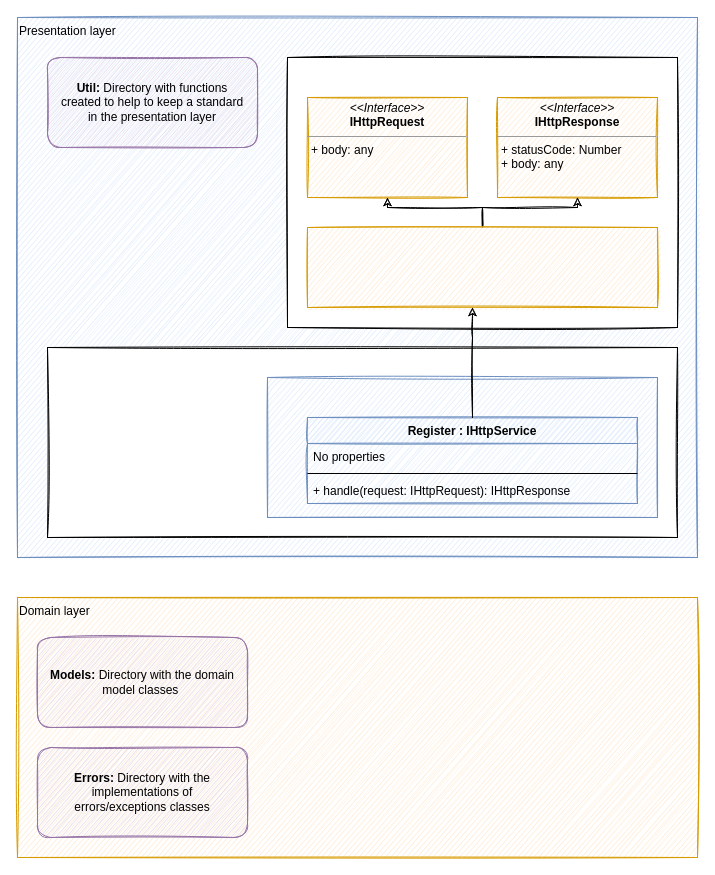
Some shapes in this 715 by 875 pixel diagram are drawn without their labels. The shapes that lost their labels are listed below. From the top down, each one's box as (x1, y1, x2, y2) in pixels, then its label:
(286, 56, 678, 328): Protocols
(306, 226, 658, 308): <<Interface>> IHttpService + handle(request: IHttpRequest): IHttpResponse
(46, 346, 678, 538): Services
(266, 376, 658, 518): Pets
